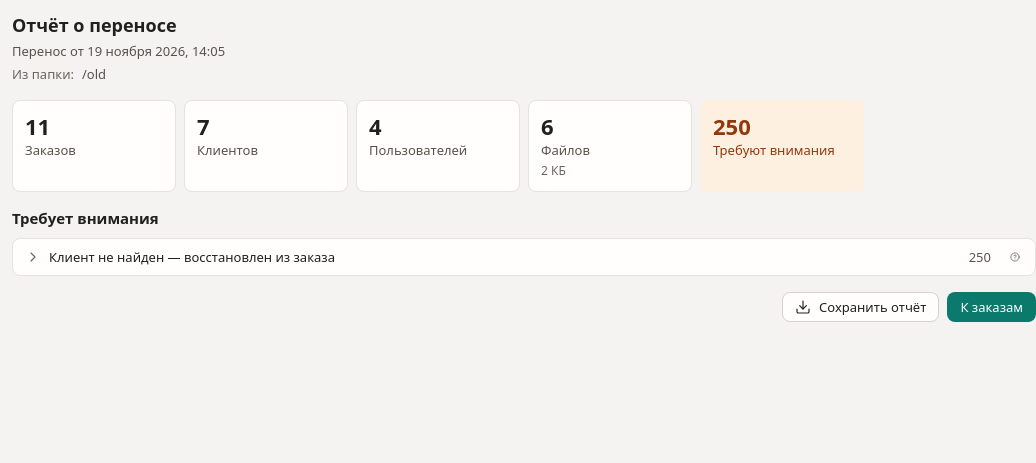
Test: ReportView groups › a group without orders opens into its entries; a cut list says where the rest is
Click the button "Клиент не найден — восстановлен из заказа 250". click: (192, 257)
box: [13, 239, 1003, 275]
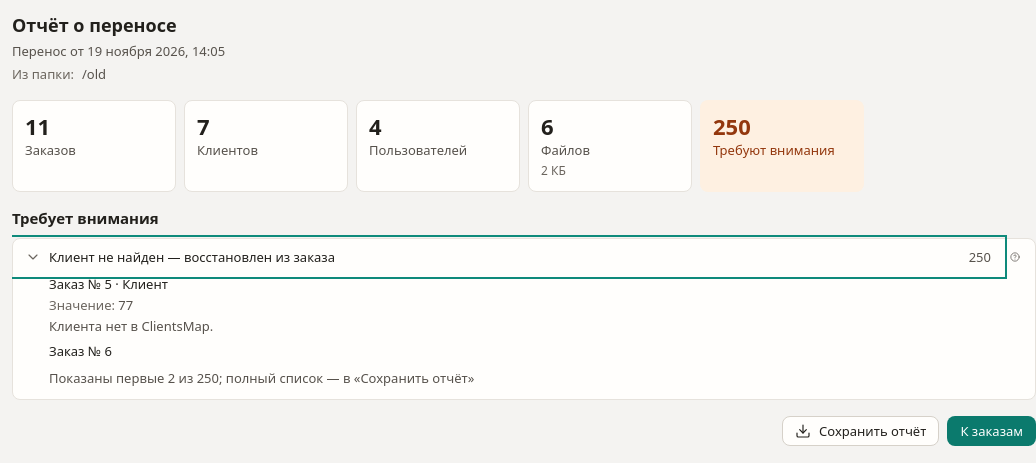
Check: the button "Клиент не найден — восстановлен из заказа 250" is expanded, box [13, 239, 1003, 275]
Check: the text "Показаны первые 2 из 250; полный список — в «Сохранить отчёт»" is shown, box [49, 368, 474, 387]
